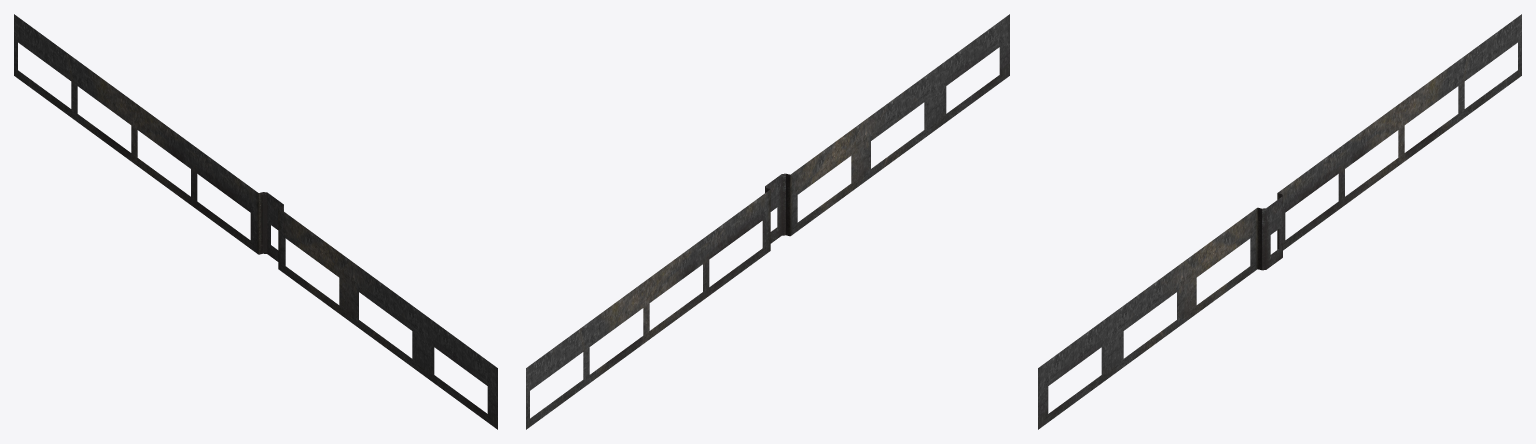
Rendered from Wall_02.FBX.
3 views of the same model, side by side, from view 1: azimuth 30°, elevation 25°; view 2: azimuth 150°, elevation 25°; view 3: azimuth 330°, elevation 25° (orthographic).
Parts seen in each view (by area): view 1: Wall_02; view 2: Wall_02; view 3: Wall_02.
Boxes of the visible parts, x1,y1,x2,y2 form: Wall_02: (14, 14, 497, 429); Wall_02: (526, 14, 1009, 429); Wall_02: (1038, 14, 1521, 429).
Bounding box in the file's own units: 62.38 × 511 × 7265.
